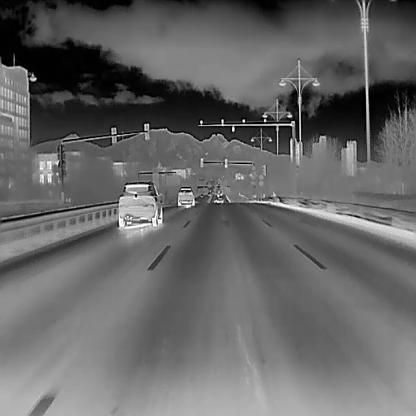car: (117, 181, 164, 228), (177, 186, 194, 207), (217, 196, 224, 204), (200, 194, 204, 197), (208, 192, 211, 196)
